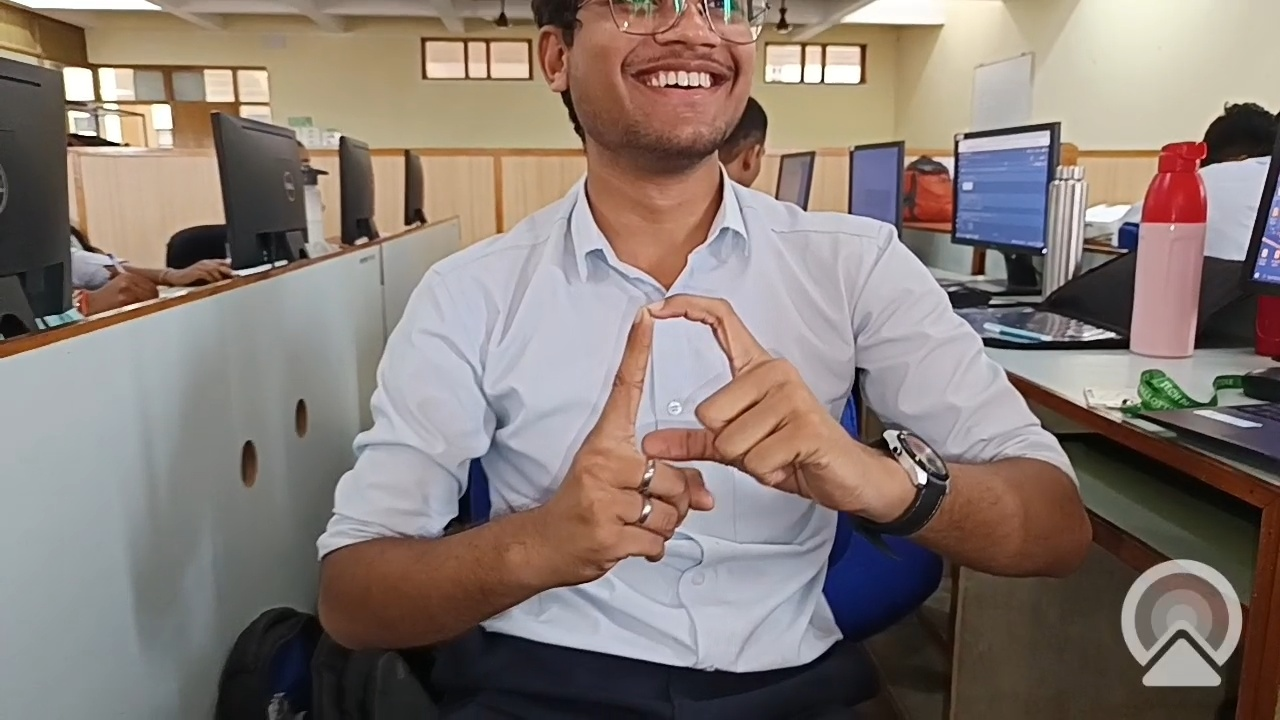D: (558, 279, 876, 498)
